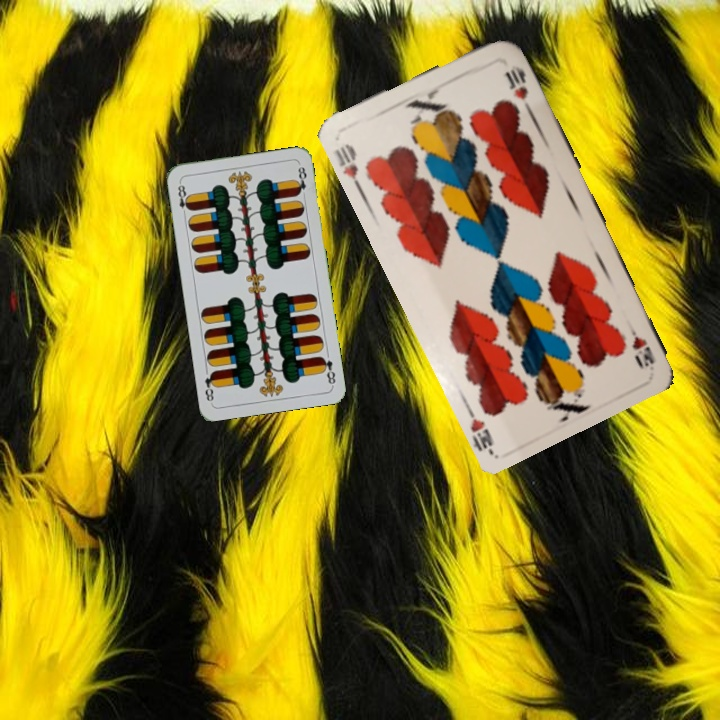E8: (174, 178, 193, 219), (317, 352, 338, 388)
H10: (621, 316, 657, 369), (331, 139, 364, 192)
